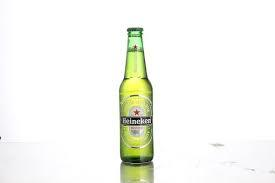Glass bottle: (100, 17, 171, 173)
